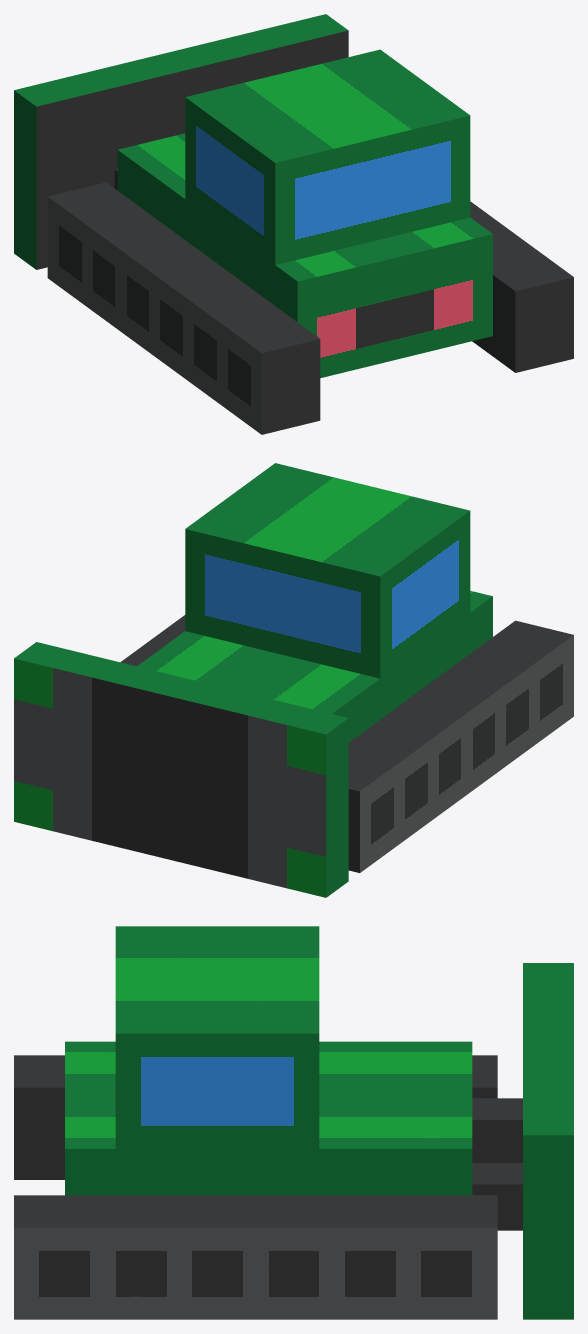
Rendered from buru.gltf.
3 views of the same model, one above another, from view 1: azimuth 30°, elevation 25°; view 2: azimuth 150°, elevation 25°; view 3: azimuth 270°, elevation 25° (orthographic). The views are drawn at different scales.
Visible parts, largest first — view 1: cube (×5); view 2: cube (×5); view 3: cube (×7).
Part boxes in pixels (x1=…): cube (×5): x1=14, y1=14, x2=573, y2=434; cube (×5): x1=14, y1=463, x2=573, y2=897; cube (×7): x1=14, y1=926, x2=573, y2=1319.
Bounding box in the file's own units: 1 × 0.6875 × 1.38.
1 material, 1 textured.
